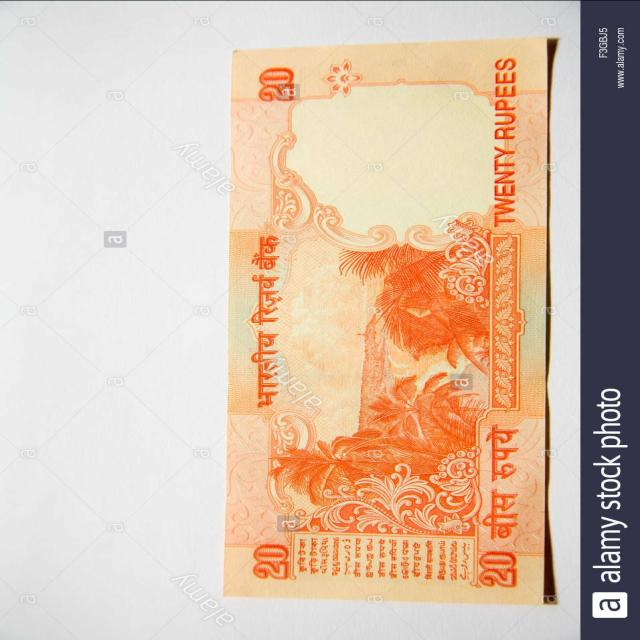20IndianRupees: (230, 34, 543, 601)
